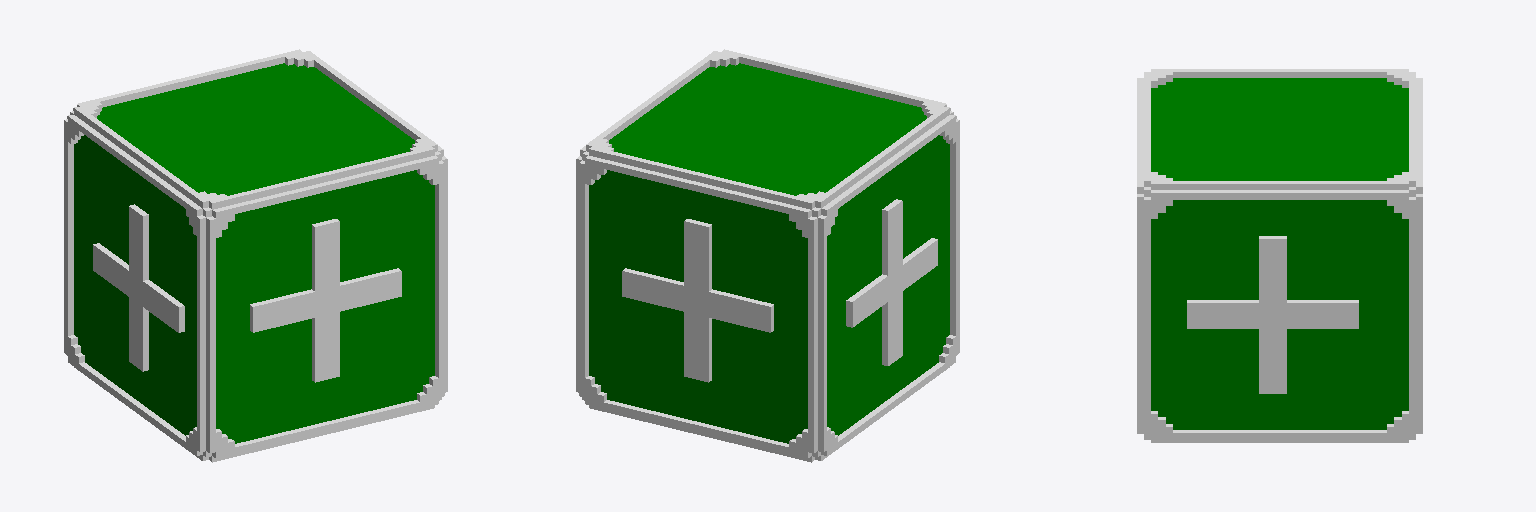
3 views of the same model, side by side, from view 1: azimuth 30°, elevation 25°; view 2: azimuth 150°, elevation 25°; view 3: azimuth 270°, elevation 25° (orthographic).
Visible parts, largest first — view 1: object 1; view 2: object 1; view 3: object 1.
Boxes of the visible parts, <box> form: object 1: <box>64,49,447,462</box>; object 1: <box>576,49,959,462</box>; object 1: <box>1137,69,1422,442</box>.
Size of the model in its own units: 4 by 4 by 4.
1 materials, 1 textured.